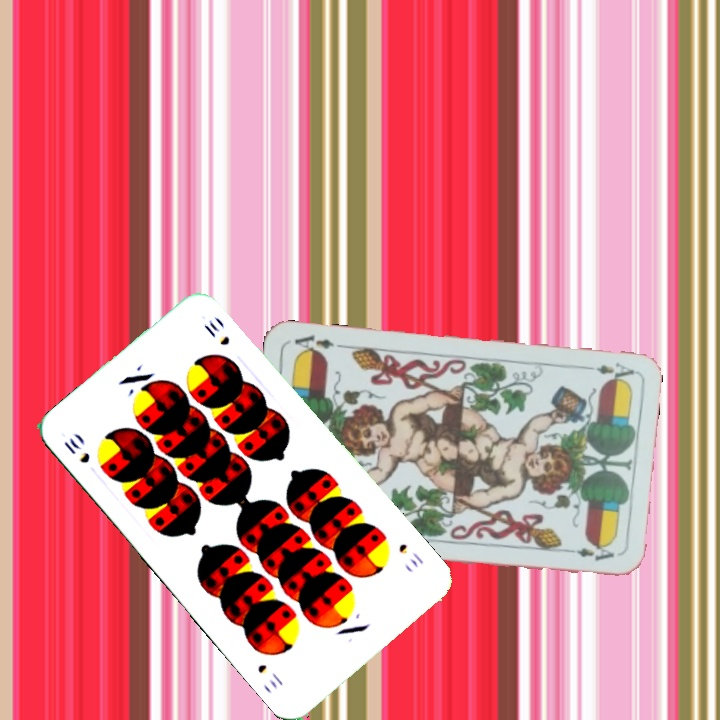EA: (577, 358, 637, 385)
S10: (59, 434, 93, 466), (394, 539, 427, 570)
